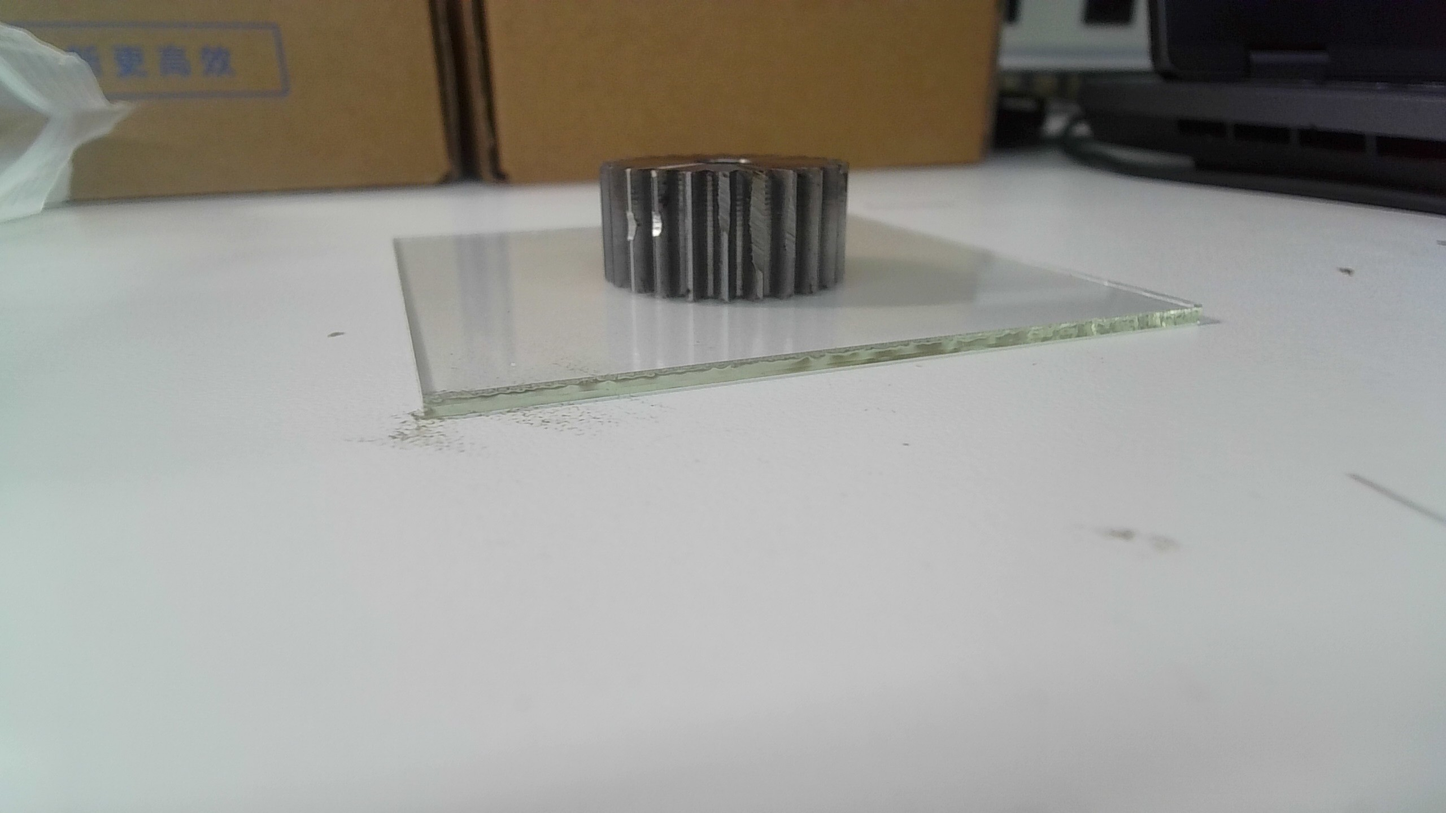gear: (595, 148, 852, 303)
